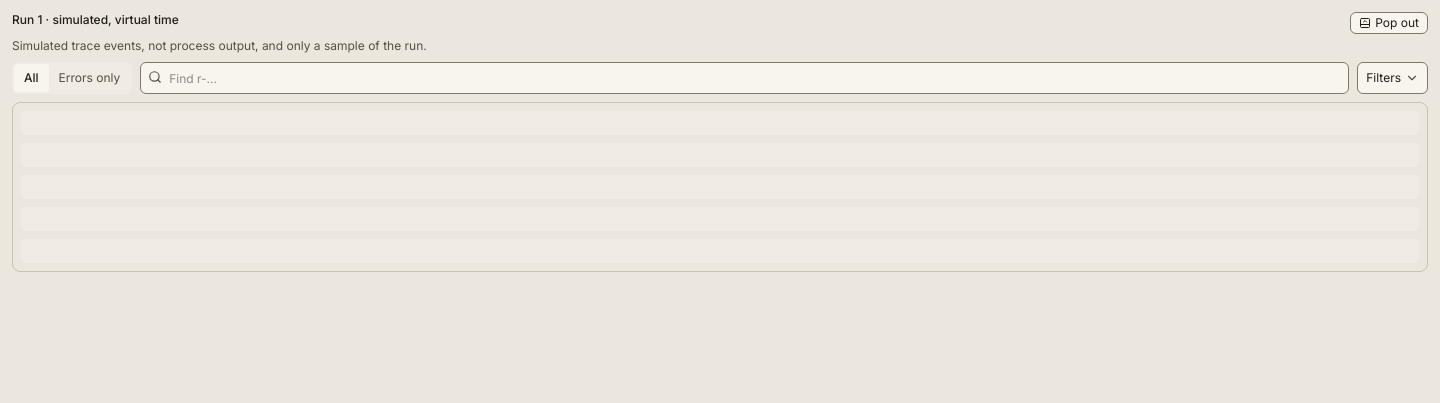
Test case: a_run_with_no_bandwidth_wire_disables_the_wire_filter_and_says_why
The width and height of the screenshot is (1440, 403).
What coordinates should you click on to do the following:
click the button "Filters"
I would click on:
 (1393, 78)
Its box is [1357,62,1428,94].
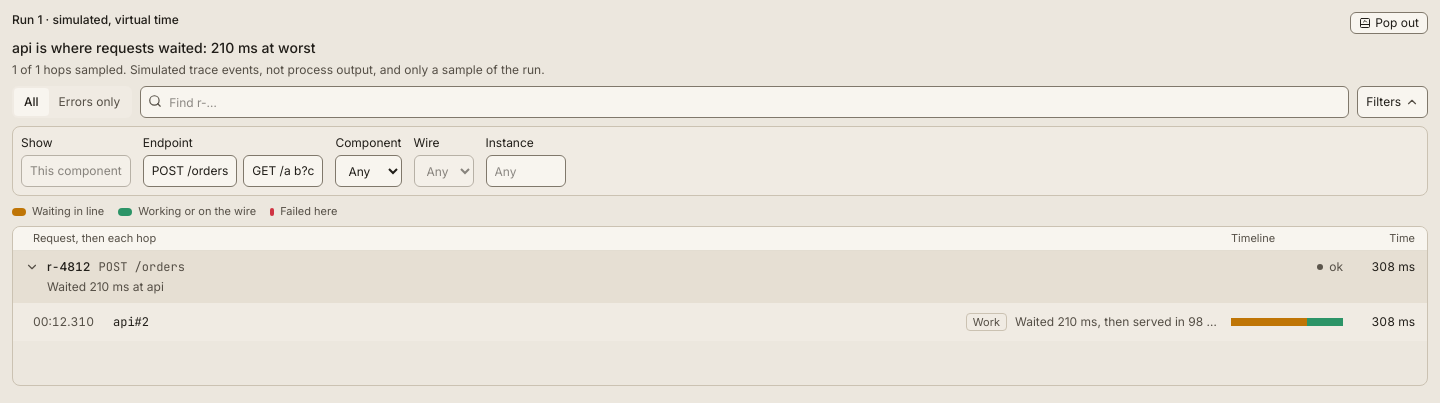
Result: the dropdown labelled "Wire" is disabled at [414,155,474,187]
